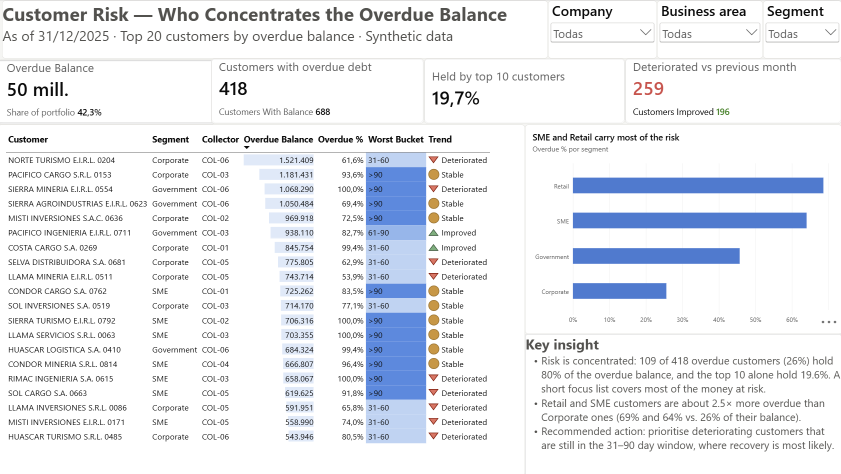

What the dashboard file says about the page in this screenshot:
{"tool":"powerbi","page":{"name":"Customer Risk","canvas":[1920,1080],"ordinal":1},"visuals":[{"type":"textbox","box":[9.1,0,1242.1,131.9],"z":0},{"type":"slicer","fields":{"Values":["dim_company.company_name"]},"box":[1251.2,0,248,131.9],"z":1000},{"type":"slicer","fields":{"Values":["dim_business_area.business_area_name"]},"box":[1499.1,0,241.1,131.9],"z":2000},{"type":"slicer","fields":{"Values":["dim_customer.segment"]},"box":[1740.3,0,179.7,131.9],"z":3000},{"type":"cardVisual","fields":{"Data":["_Measures.Overdue Balance"]},"box":[0,134.2,493.6,147.9],"z":4000},{"type":"cardVisual","fields":{"Data":["_Measures.Customers Overdue"]},"box":[484.5,131.9,484.5,147.9],"z":5000},{"type":"cardVisual","fields":{"Data":["_Measures.Top 10 Overdue Concentration %"]},"box":[969.1,131.9,457.3,147.9],"z":6000},{"type":"cardVisual","fields":{"Data":["_Measures.Customers Deteriorated"]},"box":[1426.4,131.9,493.6,147.9],"z":7000},{"type":"tableEx","fields":{"Values":["dim_customer.customer_name","dim_customer.segment","dim_customer.collector","_Measures.Overdue Balance","_Measures.Overdue %","_Measures.Worst Bucket","_Measures.Trend Status"]},"box":[0,282.1,1198.9,798.5],"z":7001},{"type":"clusteredBarChart","title":"SME and Retail carry most of the risk","fields":{"Category":["dim_customer.segment"],"Y":["_Measures.Overdue %"]},"box":[1198.9,282.1,721.1,475.5],"z":7002},{"type":"textbox","box":[1199,757,721,323],"z":7003}]}

Visuals, with their boxes in screenshot pixels (x1, y1, x2, y2), scaled from the page's 1920x1080 canvas onto the 841x474 screenshot:
textbox: 4 0 548 58
slicer - dim_company.company_name: 548 0 657 58
slicer - dim_business_area.business_area_name: 657 0 762 58
slicer - dim_customer.segment: 762 0 840 58
cardVisual - _Measures.Overdue Balance: 0 59 216 124
cardVisual - _Measures.Customers Overdue: 212 58 424 123
cardVisual - _Measures.Top 10 Overdue Concentration %: 424 58 625 123
cardVisual - _Measures.Customers Deteriorated: 625 58 840 123
tableEx - dim_customer.customer_name x dim_customer.segment: 0 124 525 473
"SME and Retail carry most of the risk" clusteredBarChart: 525 124 840 333
textbox: 525 332 840 473
